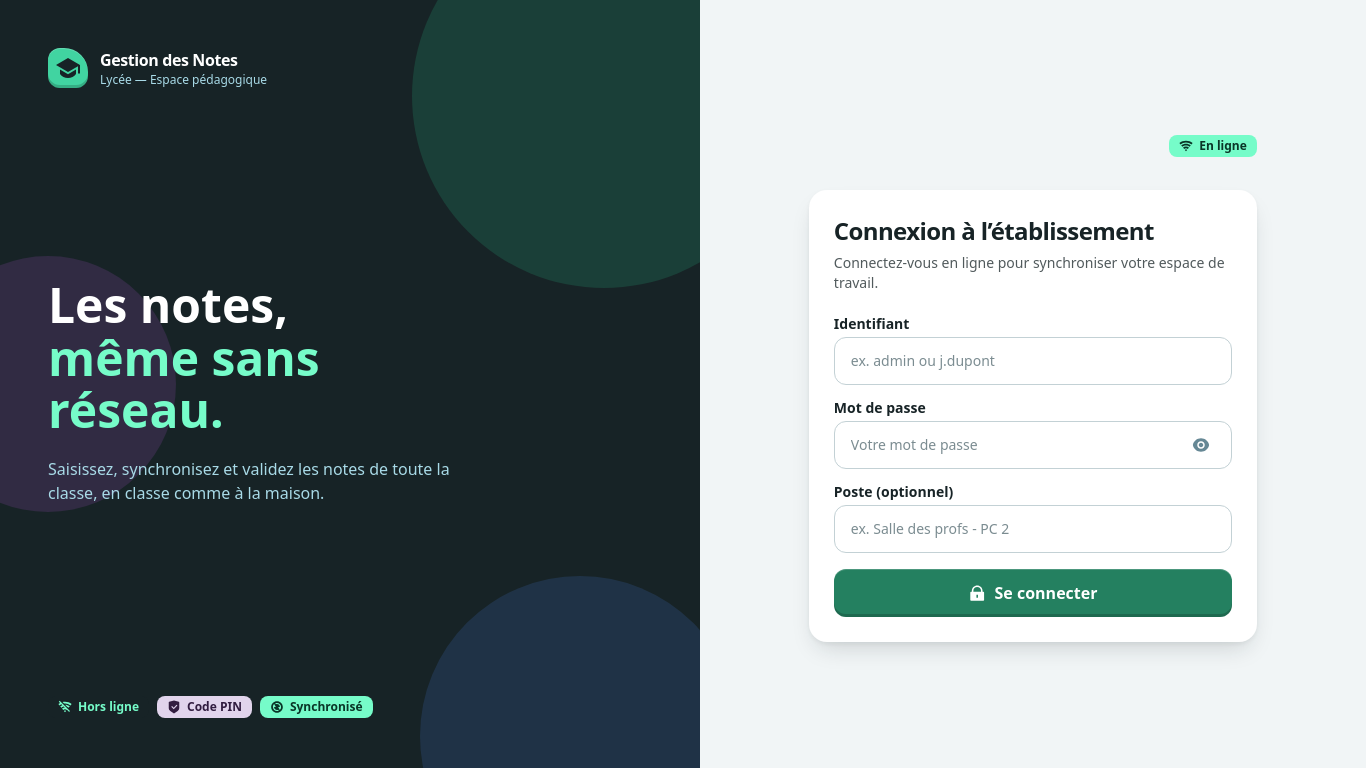
Scenario: Auth UI & role-based route guards › redirects anonymous users from / to /login and handles 401 + 429 errors
The width and height of the screenshot is (1366, 768).
Expected: the heading "Connexion à l’établissement" is shown, left=834, top=214, right=1154, bottom=247
Type "teacher1" into the field labelled "Identifiant" at x=1033, y=361, box left=851, top=351, right=1215, bottom=371
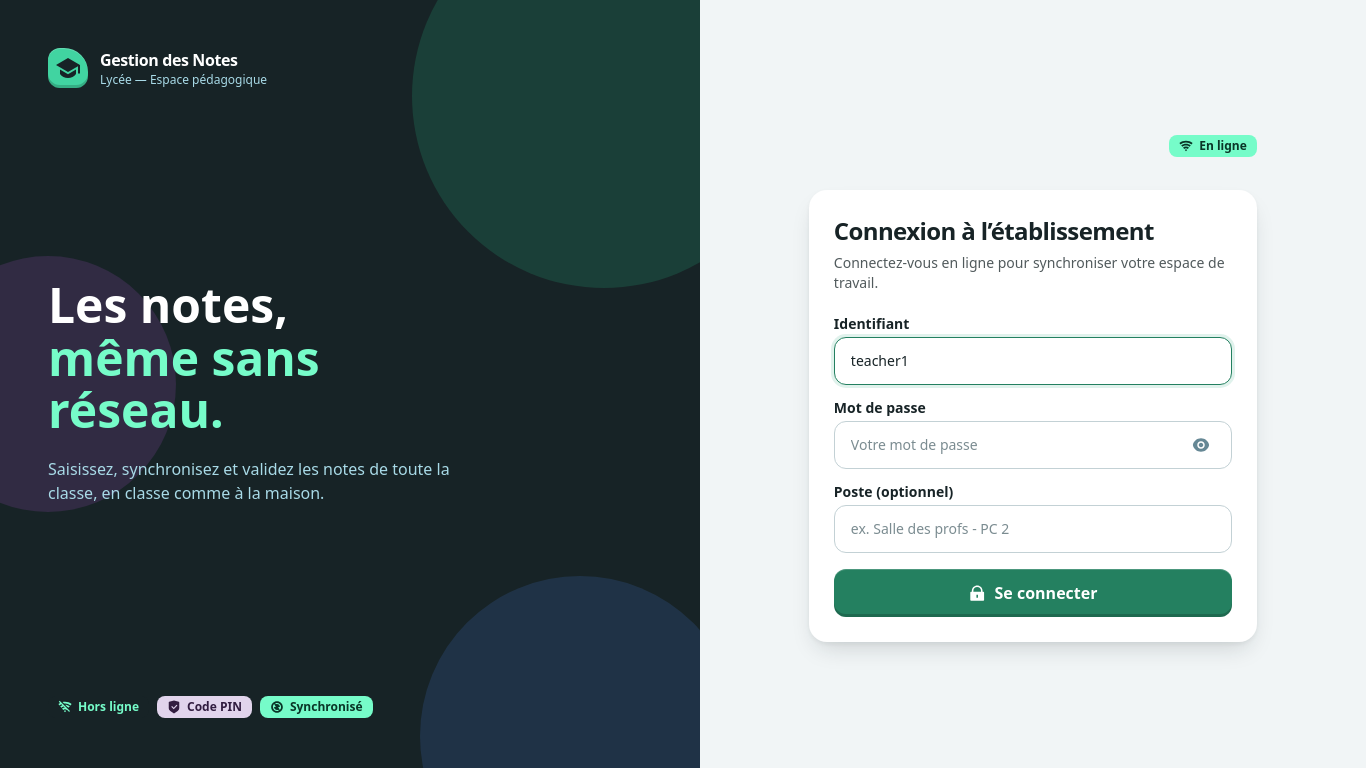
Type "wrongpass" into the password field labelled "Mot de passe" at x=1014, y=445, box left=851, top=435, right=1177, bottom=455
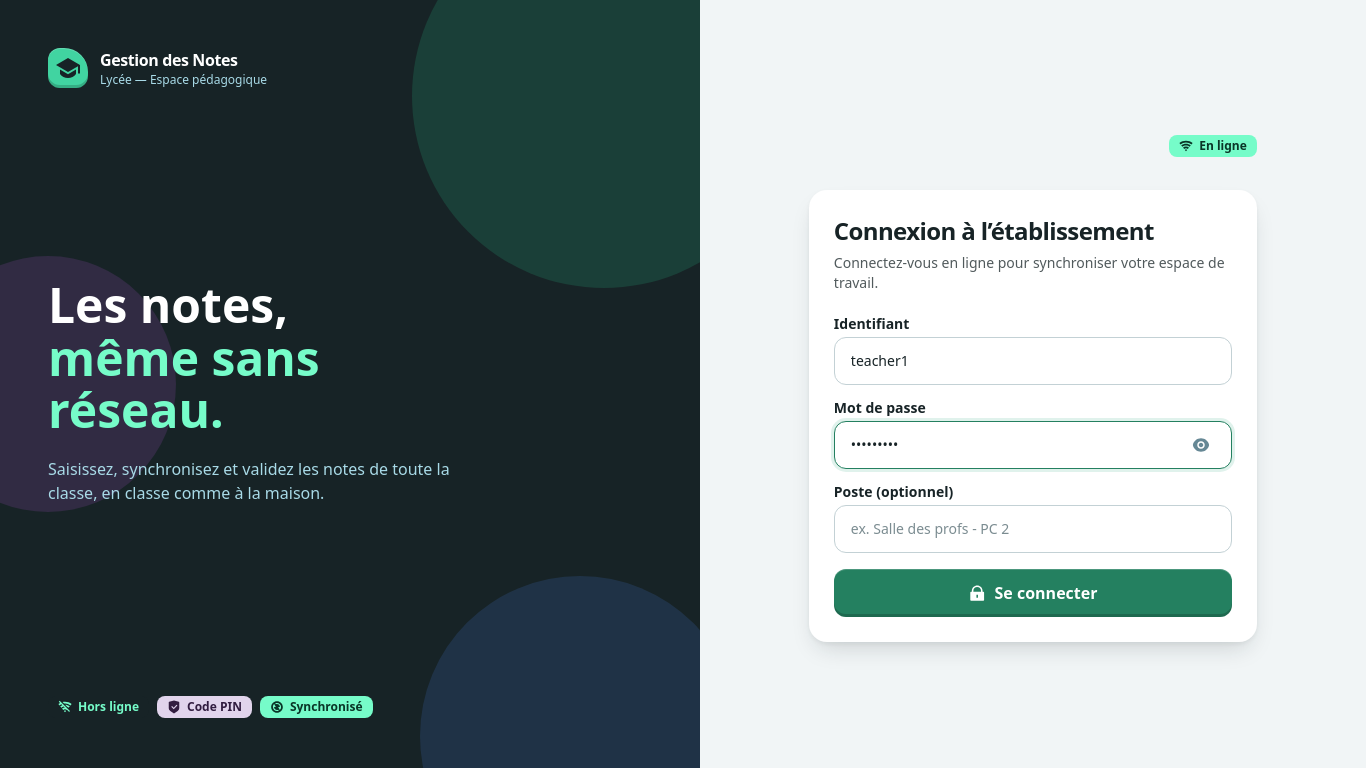
Click the button "Se connecter" at x=1033, y=593, box left=834, top=569, right=1232, bottom=617
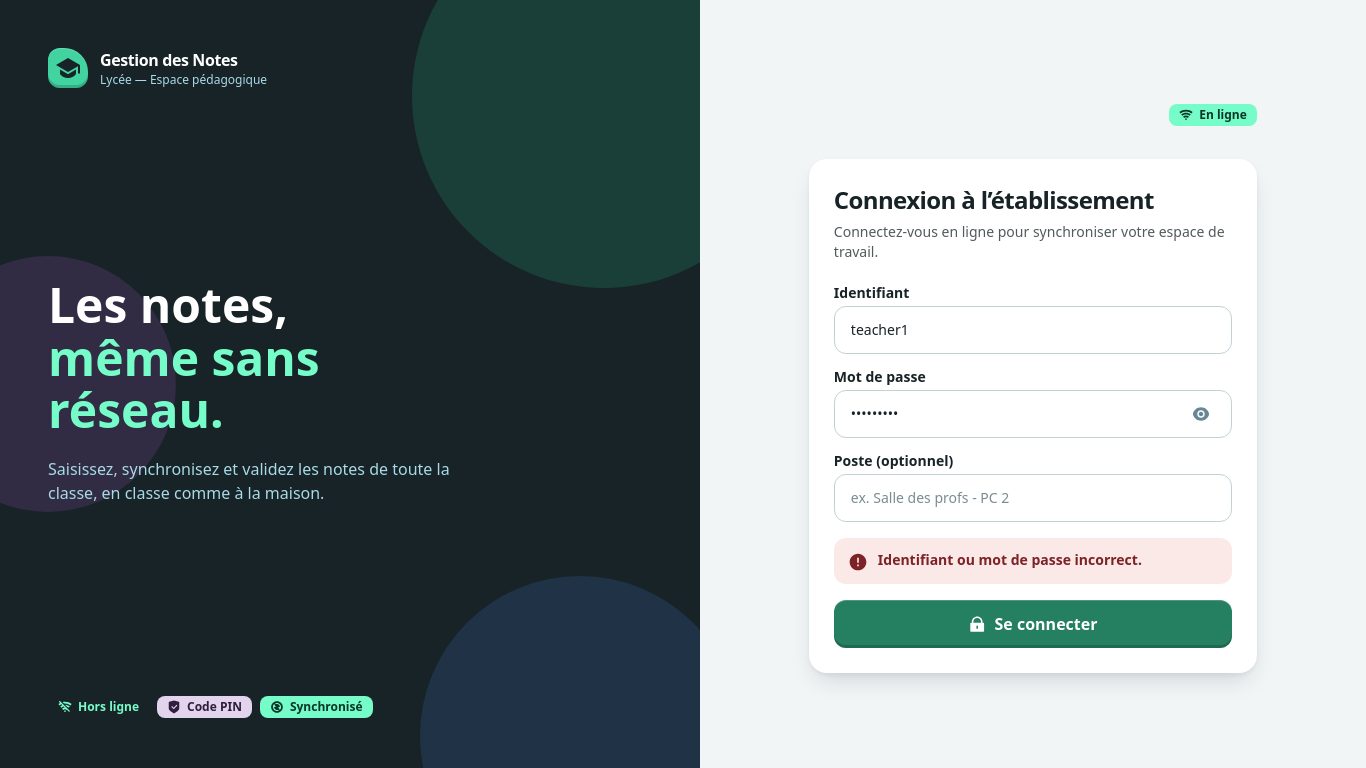
Now the message reads "Identifiant ou mot de passe incorrect.", box left=878, top=550, right=1142, bottom=569
Click the button "Se connecter" at x=1033, y=624, box left=834, top=600, right=1232, bottom=648
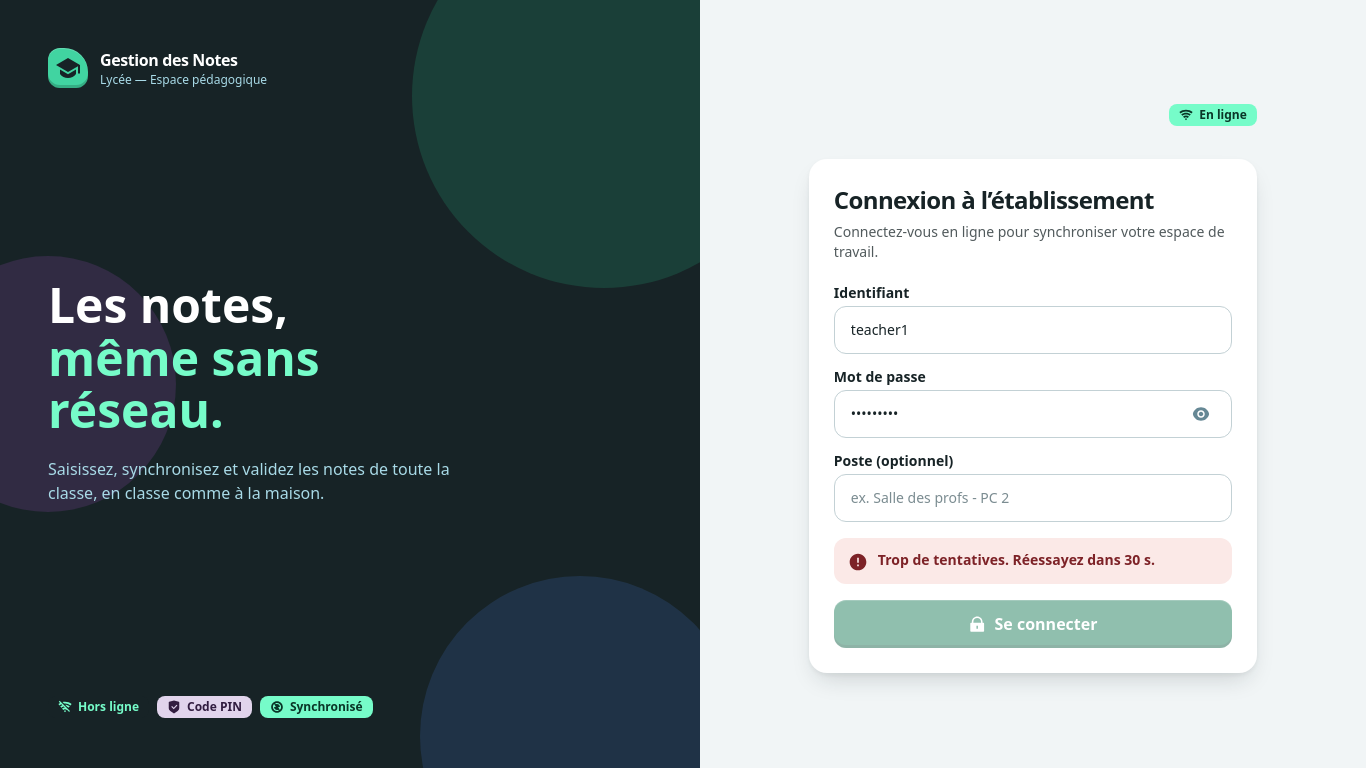
Now the message shows "30 s", box left=878, top=550, right=1155, bottom=569
